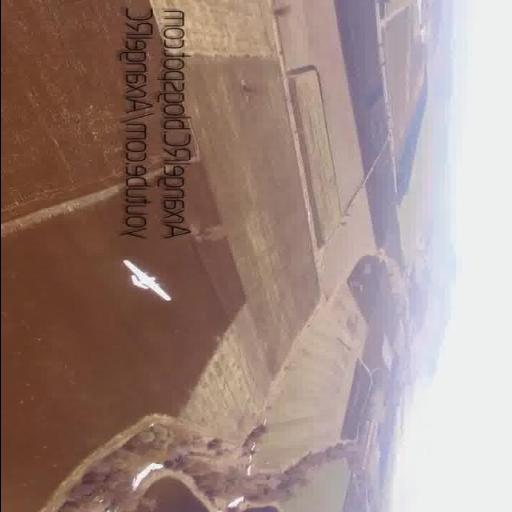uav: (98, 247, 202, 309)
